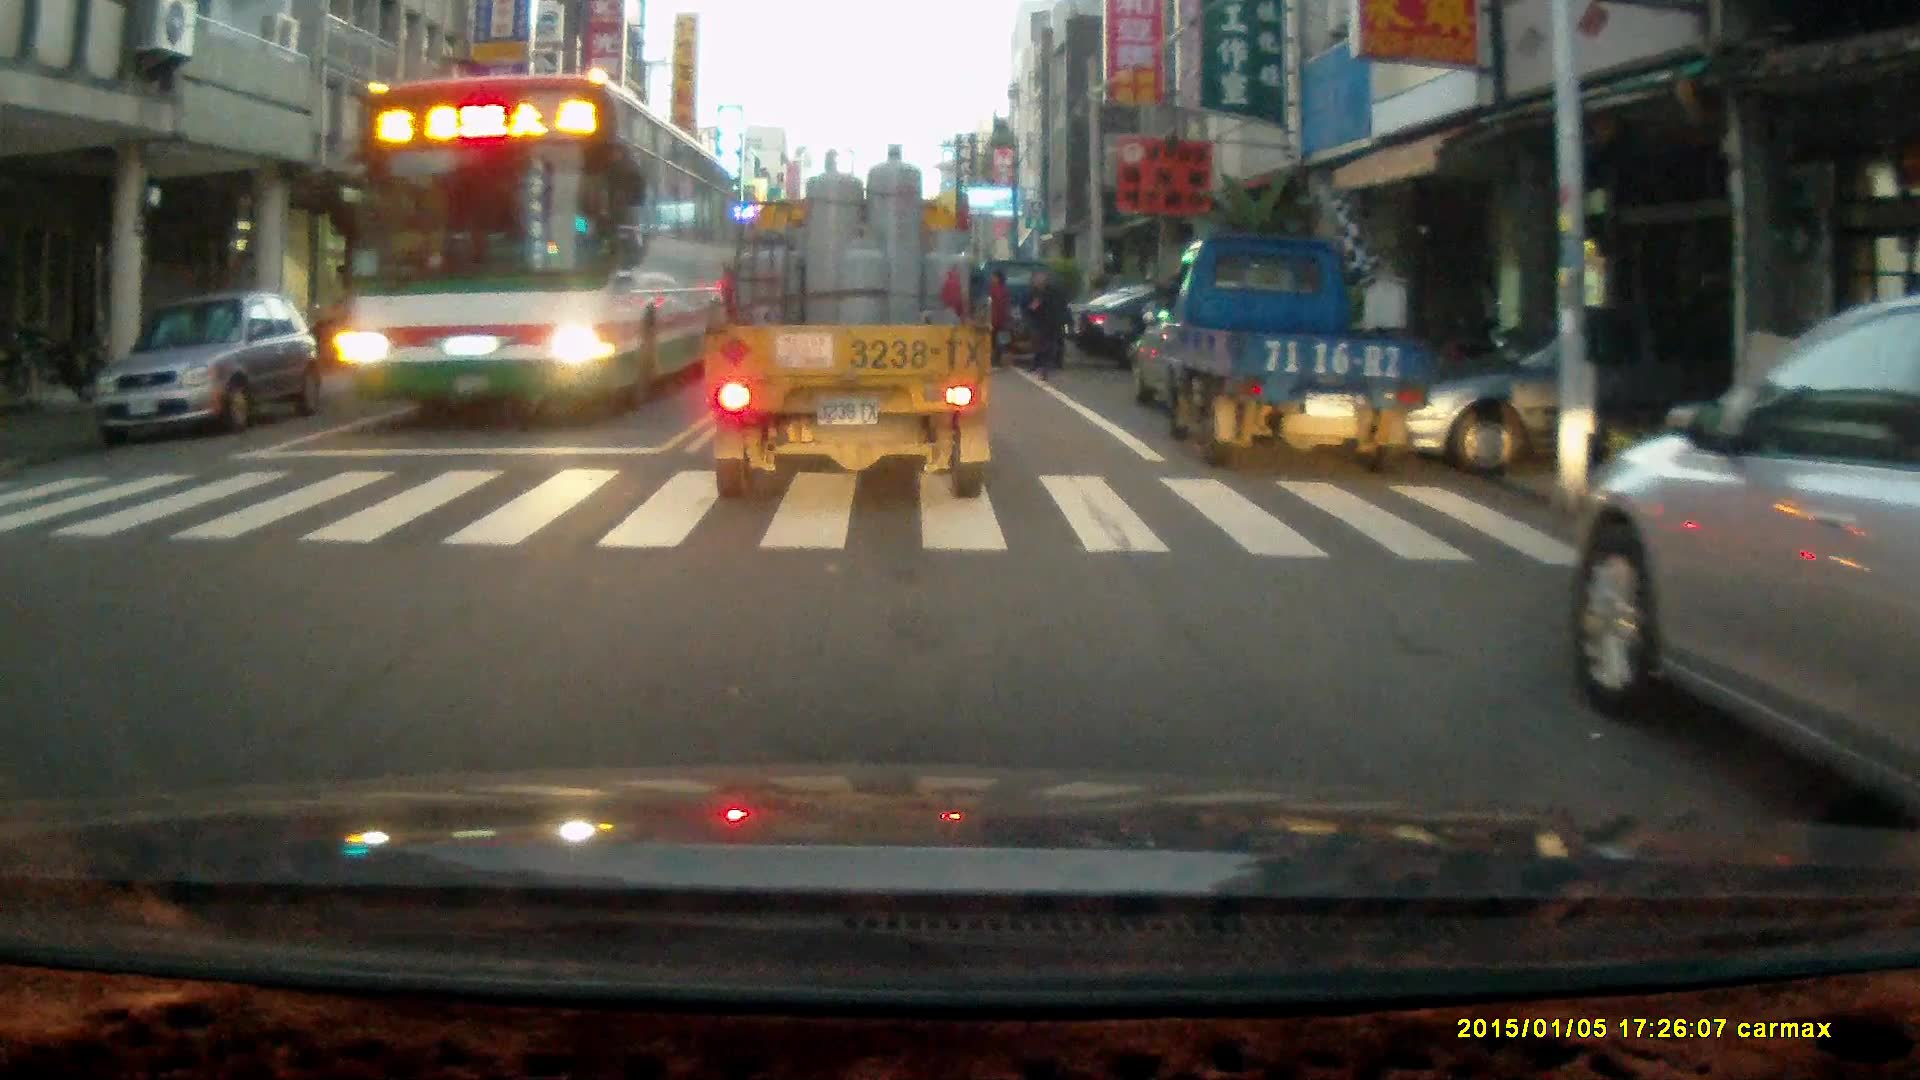pedestrian: (1018, 267, 1068, 382), (981, 264, 1011, 374)
vehicle: (1575, 299, 1920, 832), (340, 69, 740, 412), (699, 141, 997, 503), (1142, 230, 1431, 466), (1414, 337, 1747, 473), (94, 290, 320, 440), (348, 282, 526, 371), (973, 259, 1075, 372)
